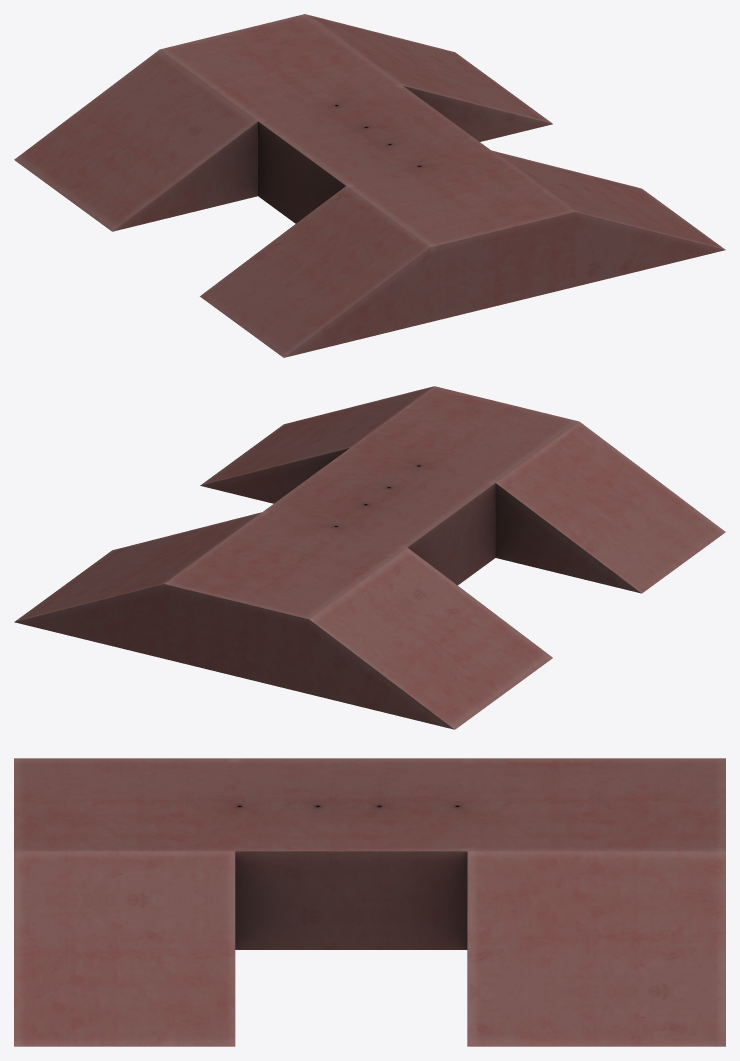
The model's file is Set2_Ramp06_1 1.fbx.
The picture shows the model from 3 angles, top to bottom: view 1: azimuth 30°, elevation 25°; view 2: azimuth 150°, elevation 25°; view 3: azimuth 270°, elevation 25°; orthographic projection. The views are drawn at different scales.
Parts seen in each view (by area): view 1: Set2_Ramp06_1; view 2: Set2_Ramp06_1; view 3: Set2_Ramp06_1.
Part boxes in pixels (x1=…): Set2_Ramp06_1: x1=14, y1=14, x2=725, y2=357; Set2_Ramp06_1: x1=14, y1=386, x2=725, y2=729; Set2_Ramp06_1: x1=14, y1=758, x2=725, y2=1046.
Bounding box in the file's own units: 600 × 97.08 × 636.
